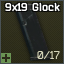Glock 9x19 17-round magazine: (0, 0, 64, 64)
